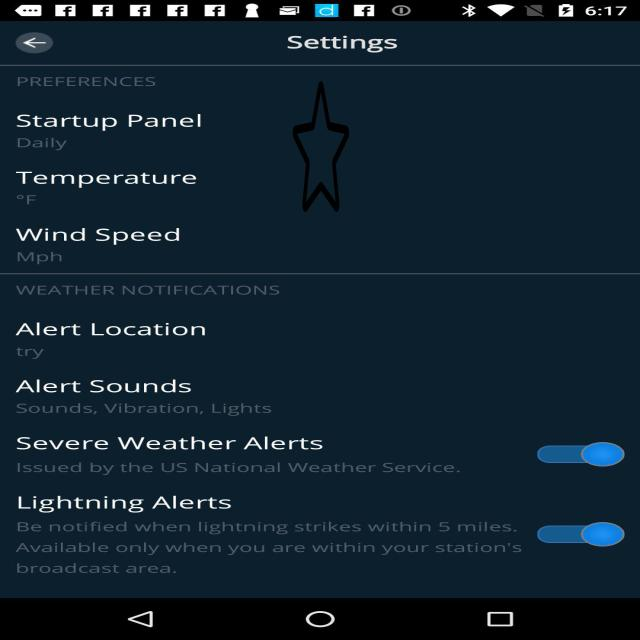forced continuity: (293, 78, 349, 215)
